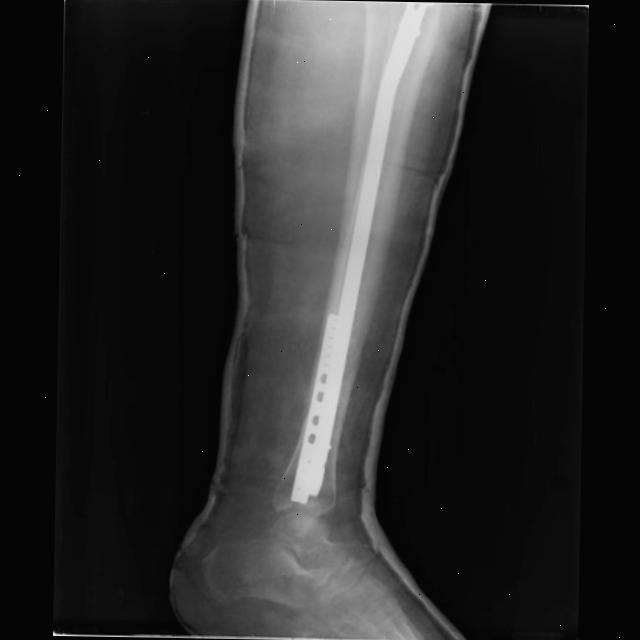Fracture: (337, 343, 366, 401)
